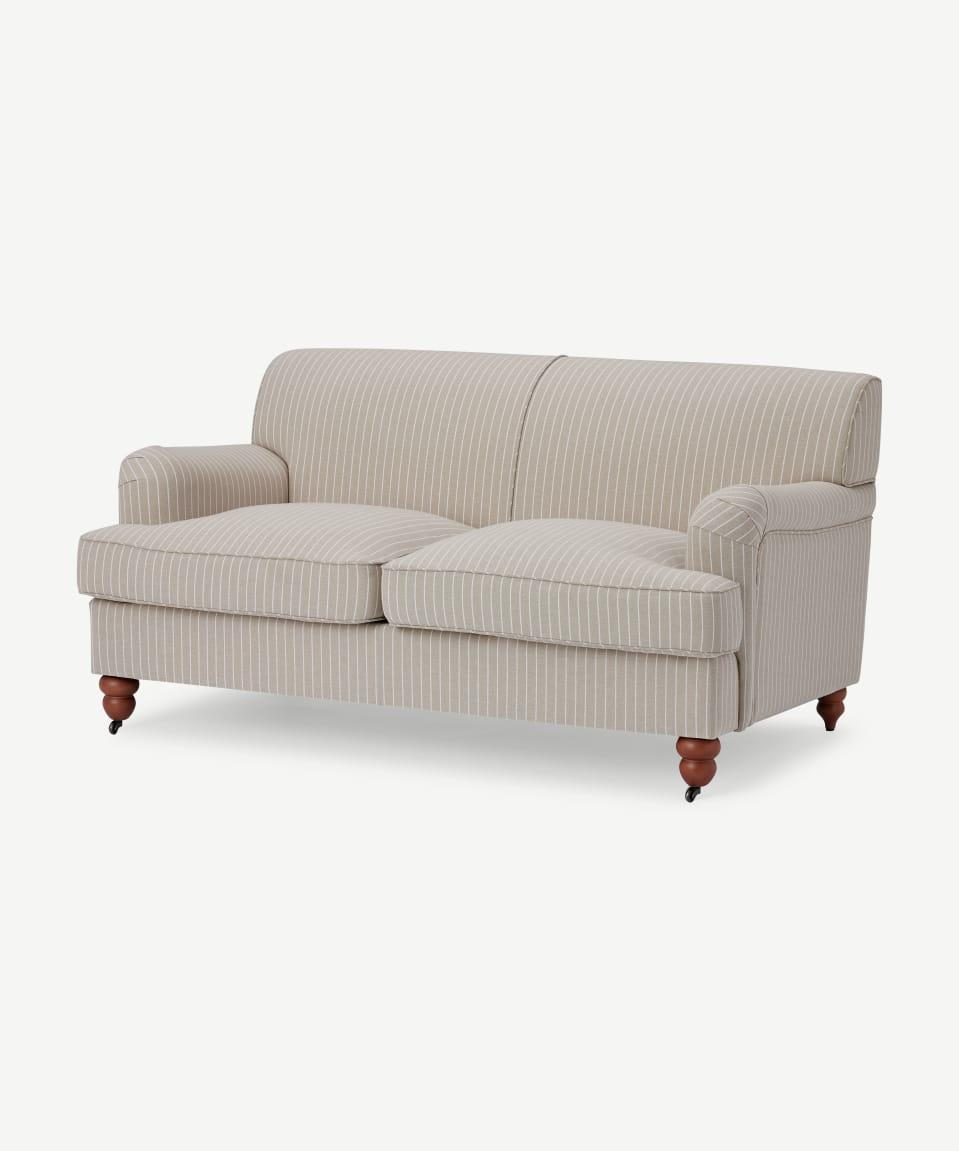couch: (73, 328, 900, 808)
